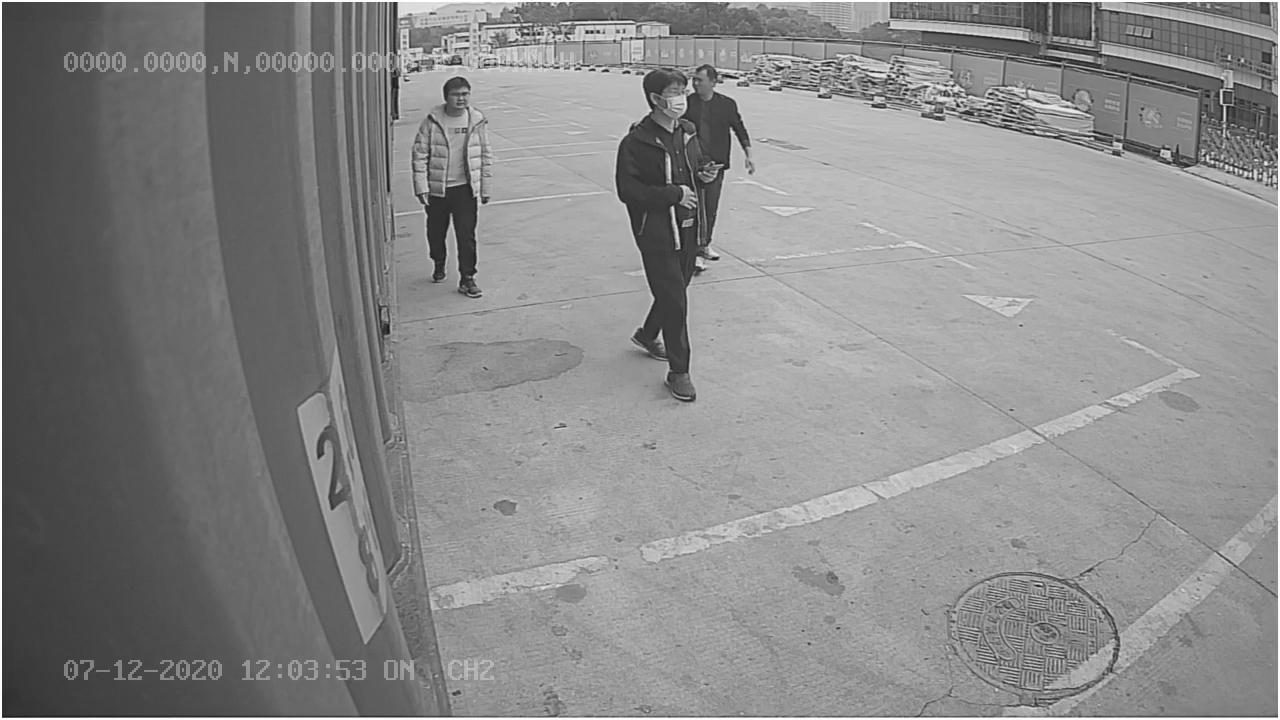person: (411, 73, 494, 297)
